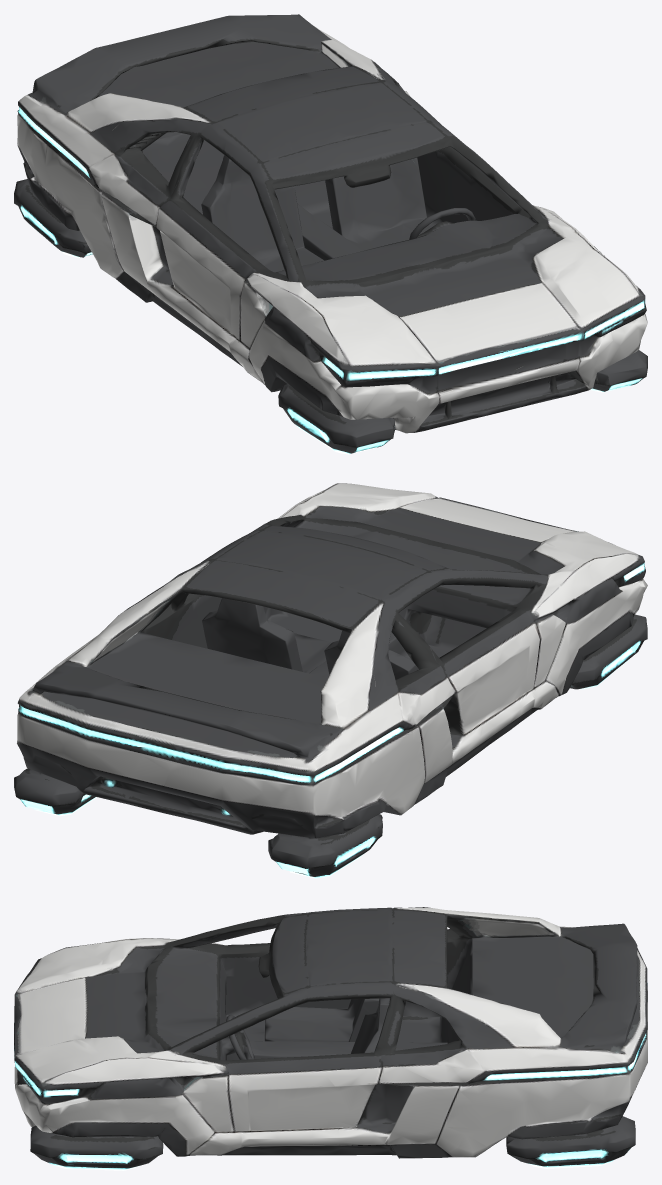
3 renders of one model, top to bottom at view 1: azimuth 30°, elevation 25°; view 2: azimuth 150°, elevation 25°; view 3: azimuth 270°, elevation 25°, orthographic. The views are drawn at different scales.
Parts seen in each view (by area): view 1: body; view 2: body; view 3: body.
Part boxes in pixels (x1,y1,x2,y2): body: (14, 14, 647, 454); body: (14, 483, 647, 878); body: (14, 907, 647, 1170).
Size of the model in its own units: 2.6 by 1.45 by 5.
Materials: 1 (1 with a texture image).
